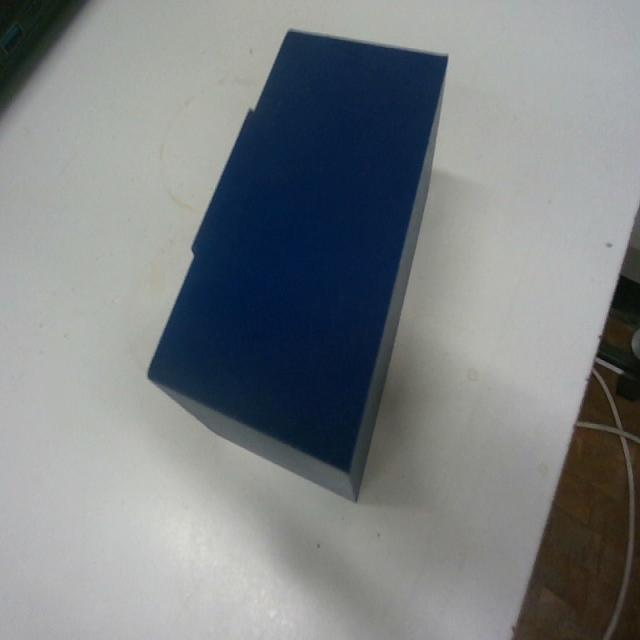Blue Cuboid: (145, 25, 449, 503)
